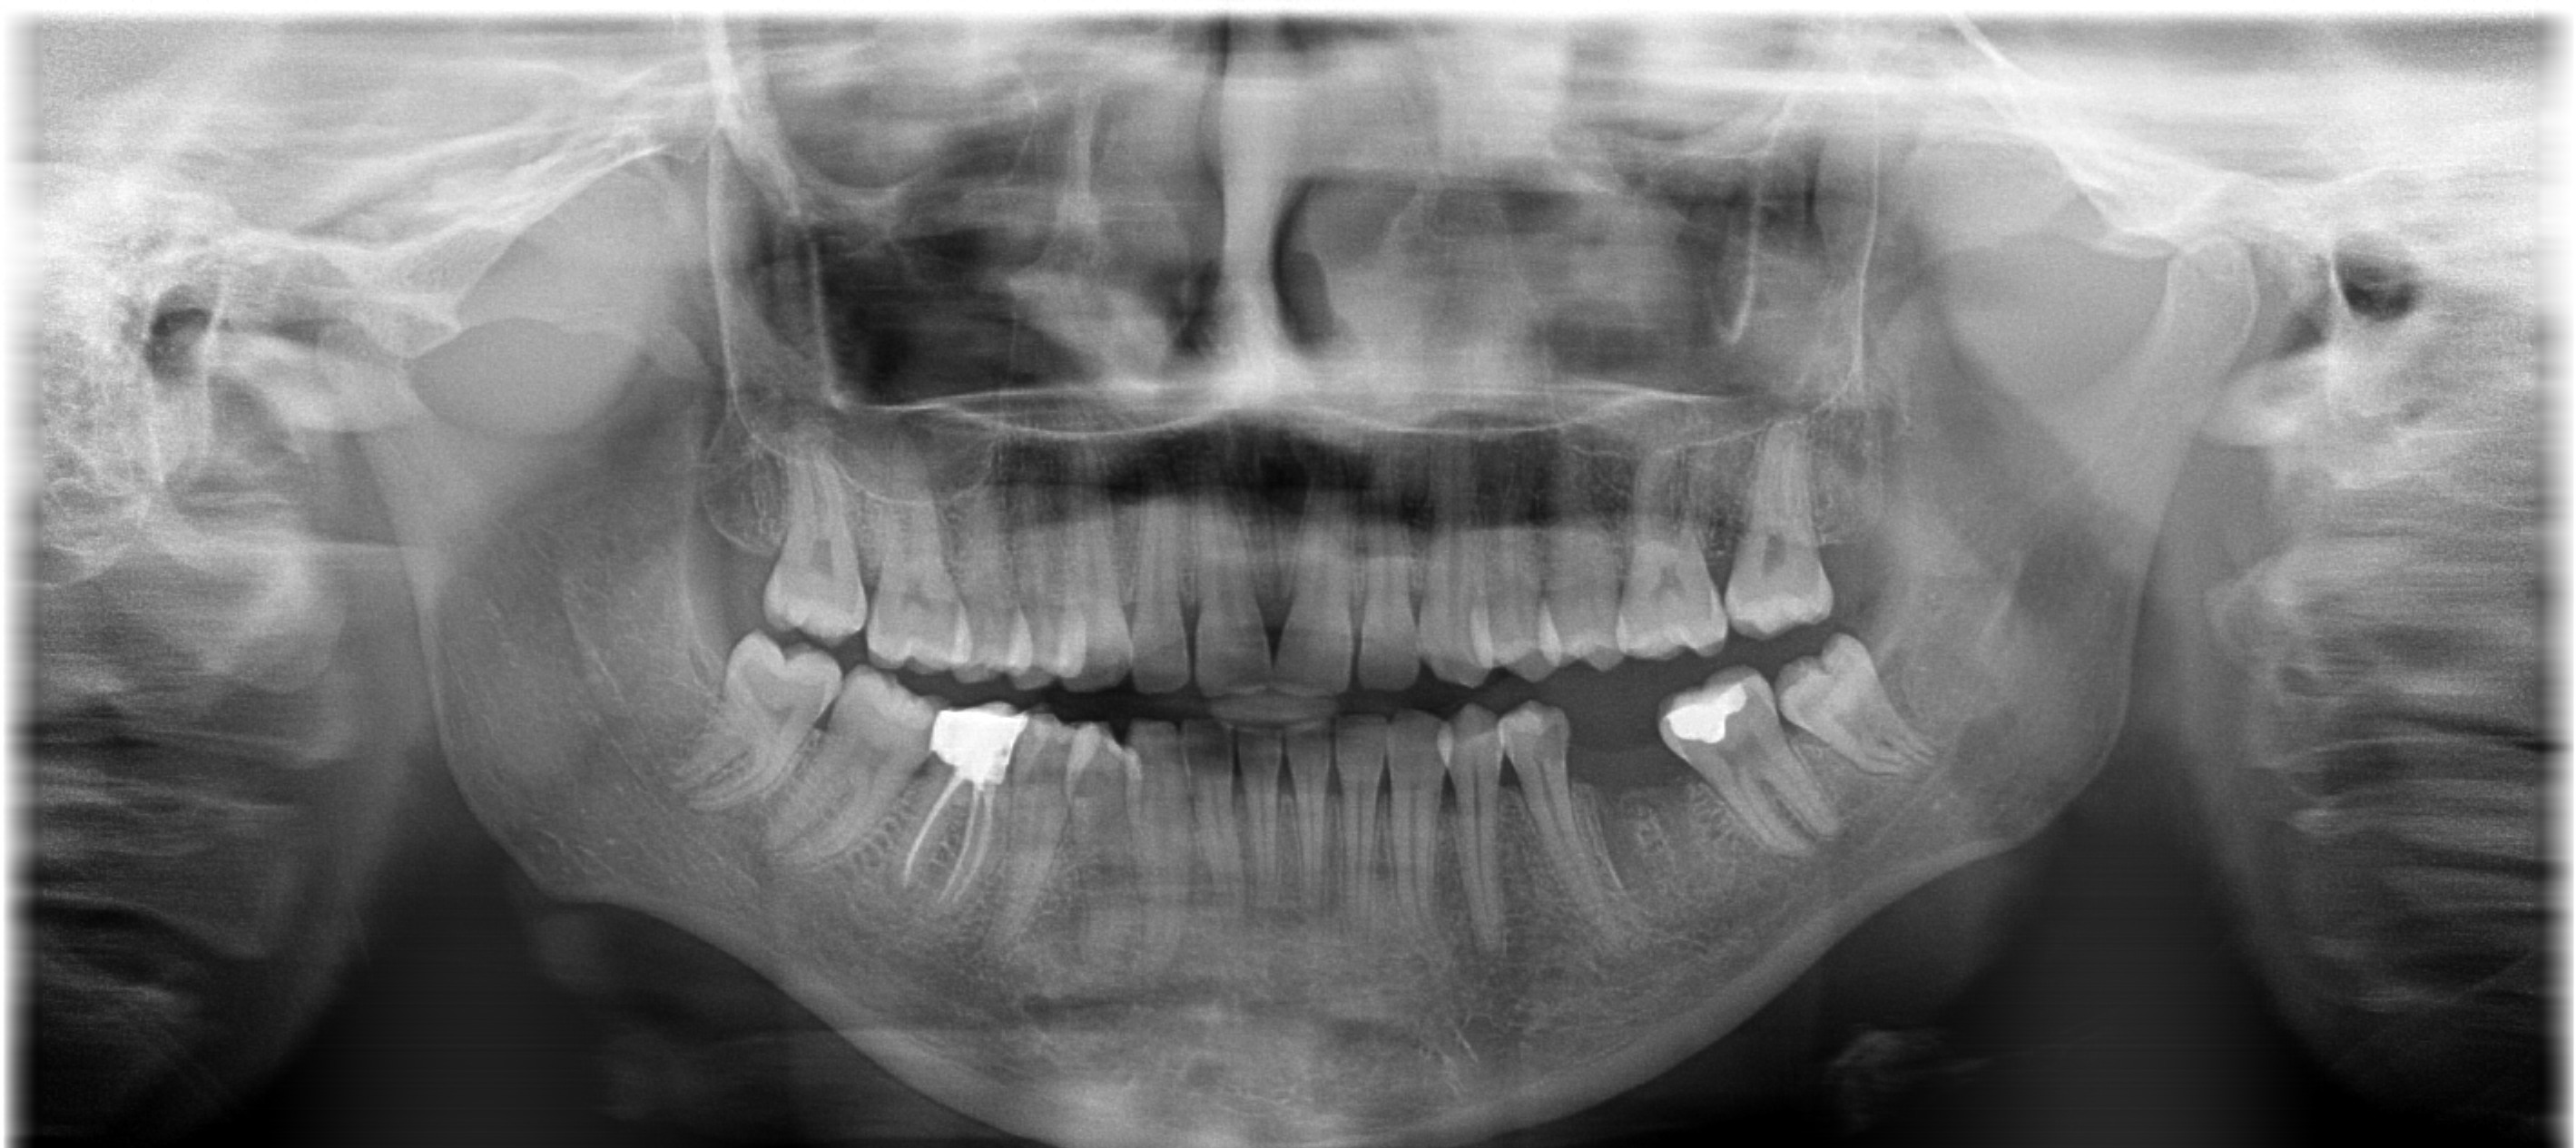cordal: (646, 604, 854, 836), (1774, 627, 1943, 788)
tratamiento_conducto: (894, 690, 1037, 933)
zona_dentula: (1552, 683, 1732, 925)
